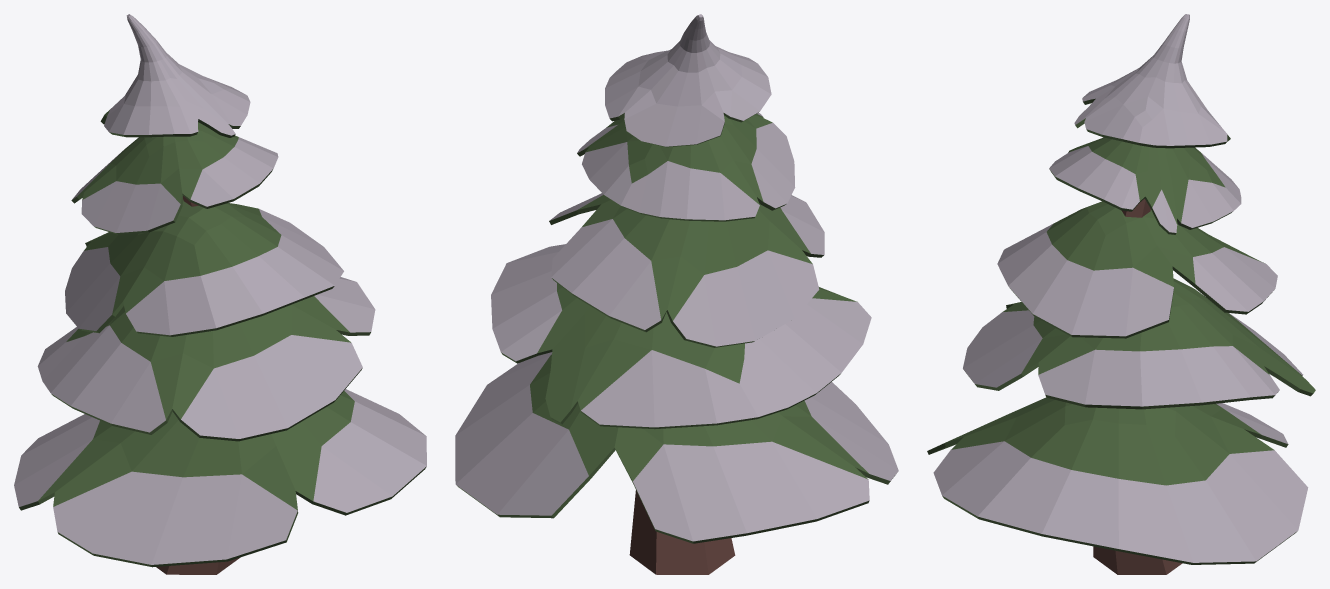
File: PineTree_Snow_1.gltf
3 renders of one model, left to right at view 1: azimuth 30°, elevation 25°; view 2: azimuth 150°, elevation 25°; view 3: azimuth 270°, elevation 25°, orthographic. The views are drawn at different scales.
Parts seen in each view (by area): view 1: PineTree_Snow_1; view 2: PineTree_Snow_1; view 3: PineTree_Snow_1.
Boxes of the visible parts, left/top/right/bottom form: PineTree_Snow_1: left=14, top=14, right=426, bottom=574; PineTree_Snow_1: left=455, top=14, right=898, bottom=574; PineTree_Snow_1: left=927, top=14, right=1315, bottom=574.
Bounding box in the file's own units: 1.96 × 2.7 × 1.82.
